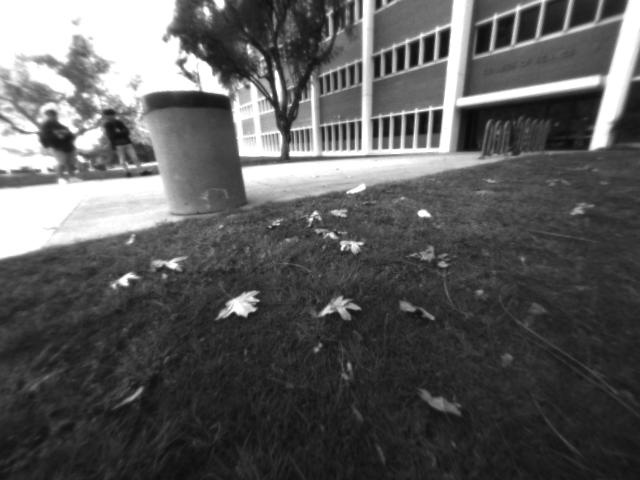trashcan: (136, 88, 256, 219)
